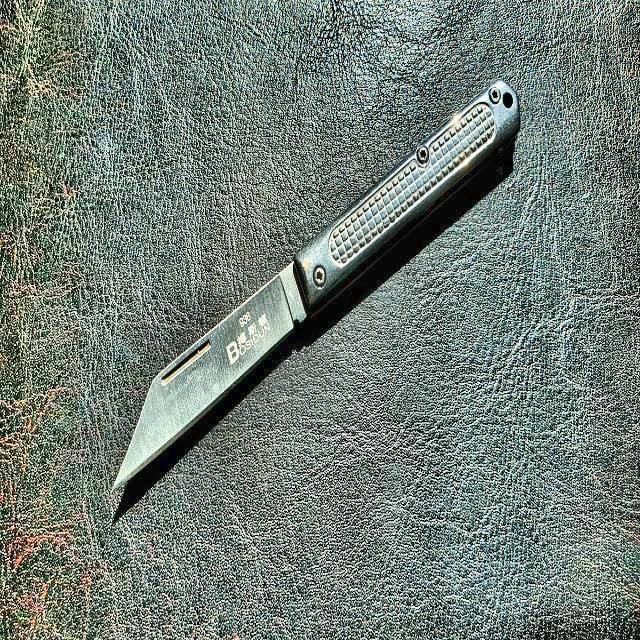knife: (109, 69, 525, 503)
